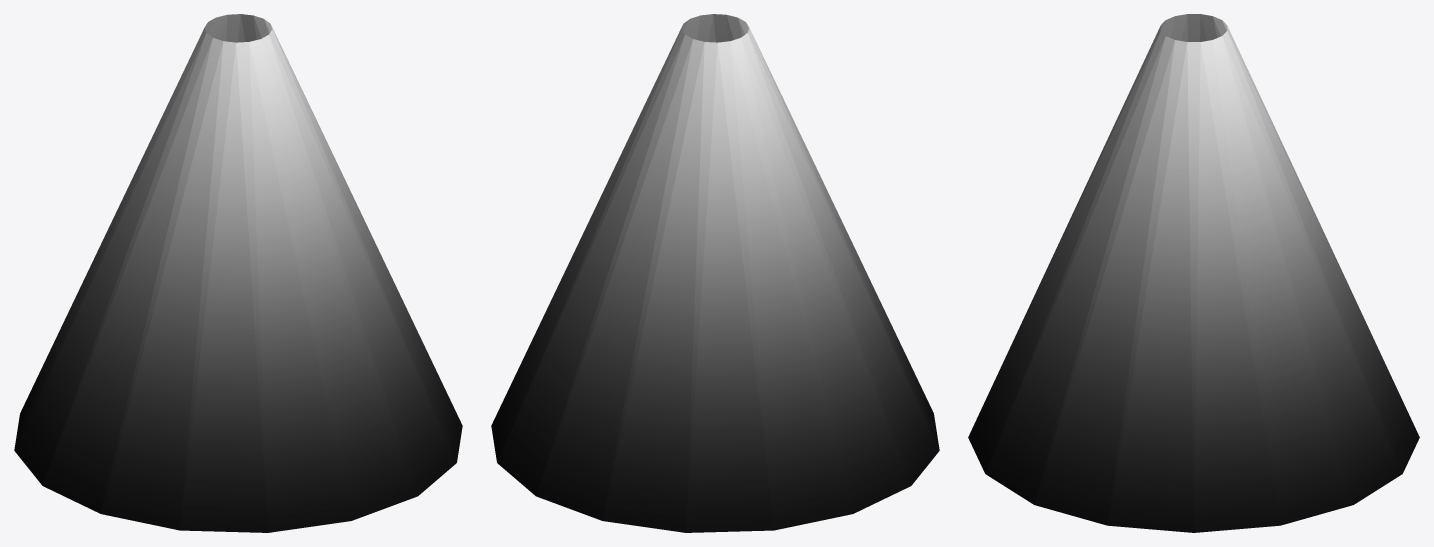
The model's file is LucesJuego.fbx.
The picture shows the model from 3 angles, left to right: view 1: azimuth 30°, elevation 25°; view 2: azimuth 150°, elevation 25°; view 3: azimuth 270°, elevation 25°; orthographic projection.
Parts seen in each view (by area): view 1: Cone; view 2: Cone; view 3: Cone.
Part boxes in pixels (box(x1,y1,x2,y2)): Cone: box(14, 14, 462, 532); Cone: box(491, 14, 939, 532); Cone: box(968, 14, 1419, 532).
Bounding box in the file's own units: 200 × 200 × 200.
